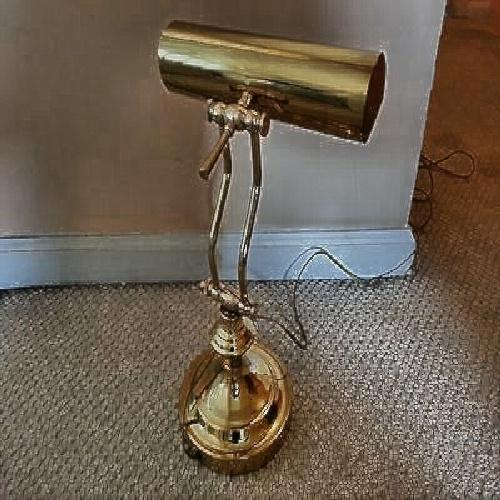lamp: (146, 21, 370, 466)
